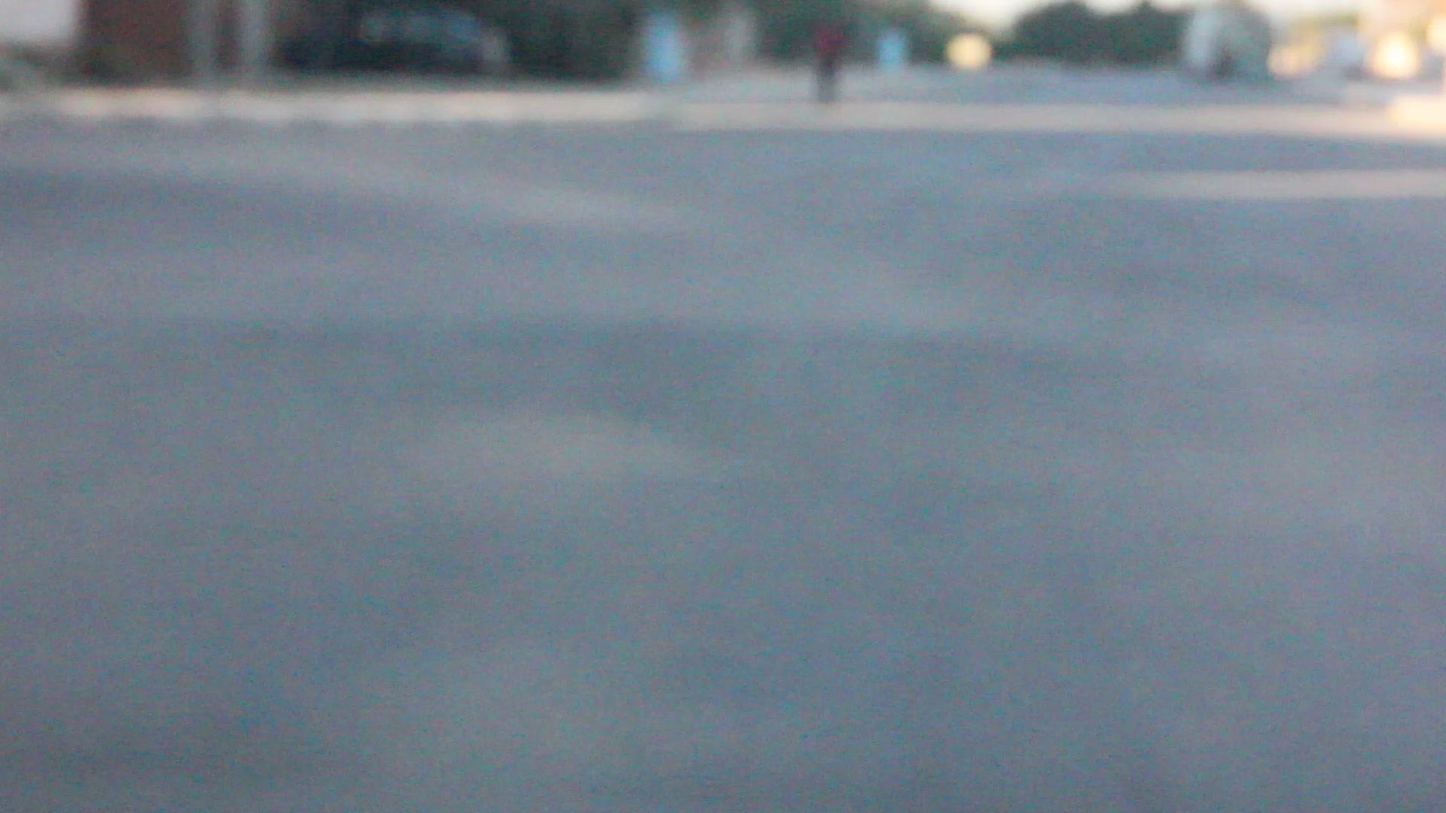Bump: (0, 279, 1446, 455)
